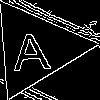A: (10, 23, 52, 72)
